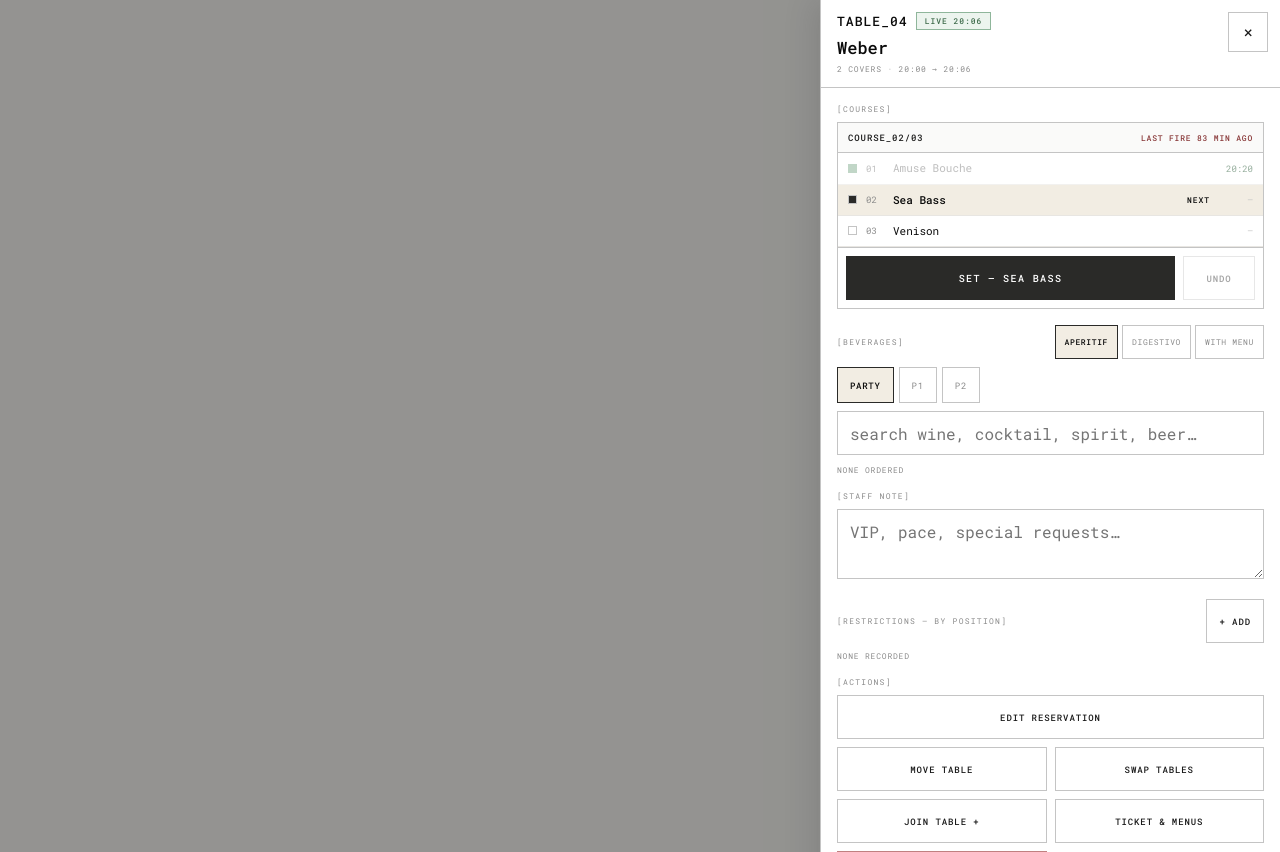
Test: TableSheet — beverages › offers GLASS/BOTTLE for wine and a single ADD for everything else
In the field named "Search beverages": (1050, 433) top-left (837, 411), bottom-right (1264, 455), type "negro"
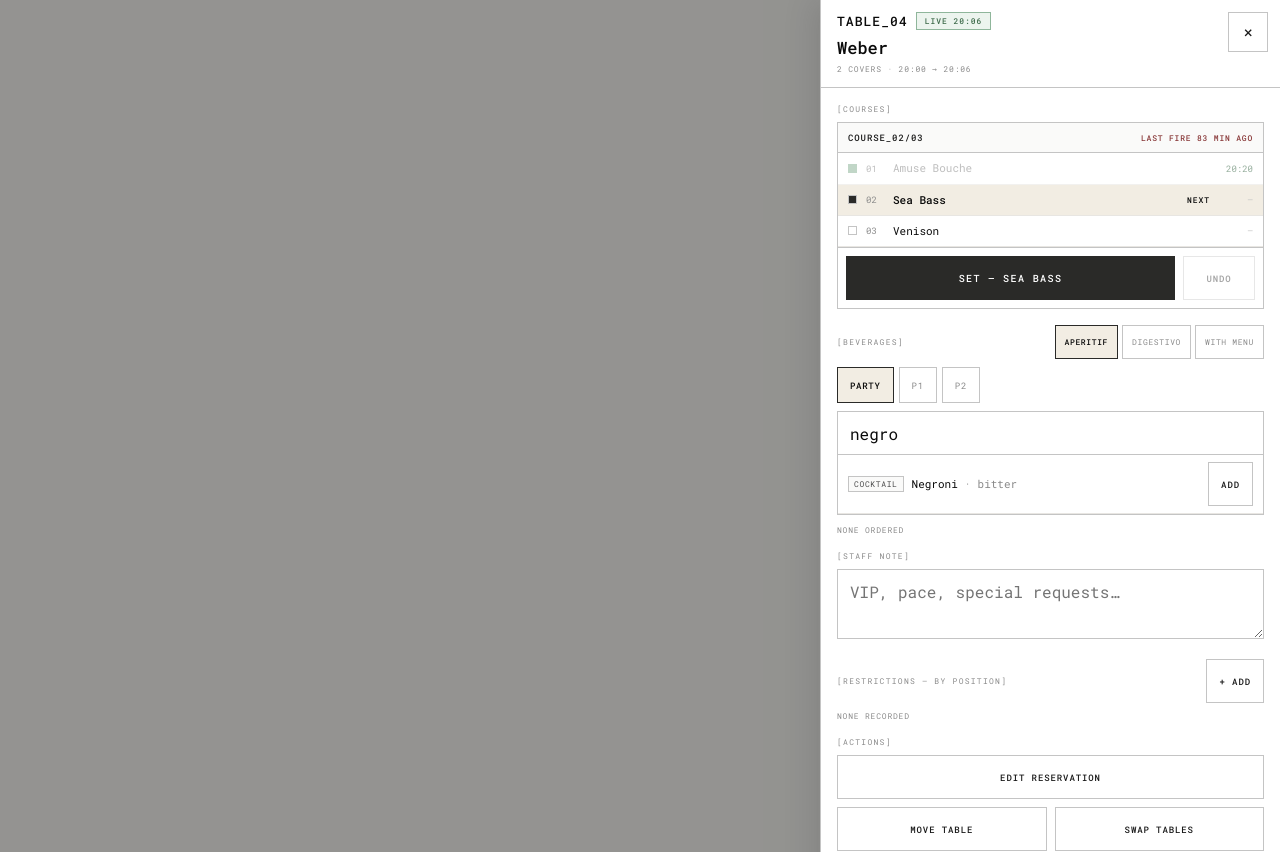
Now the button "ADD" is shown, box top-left (1208, 462), bottom-right (1253, 506)
